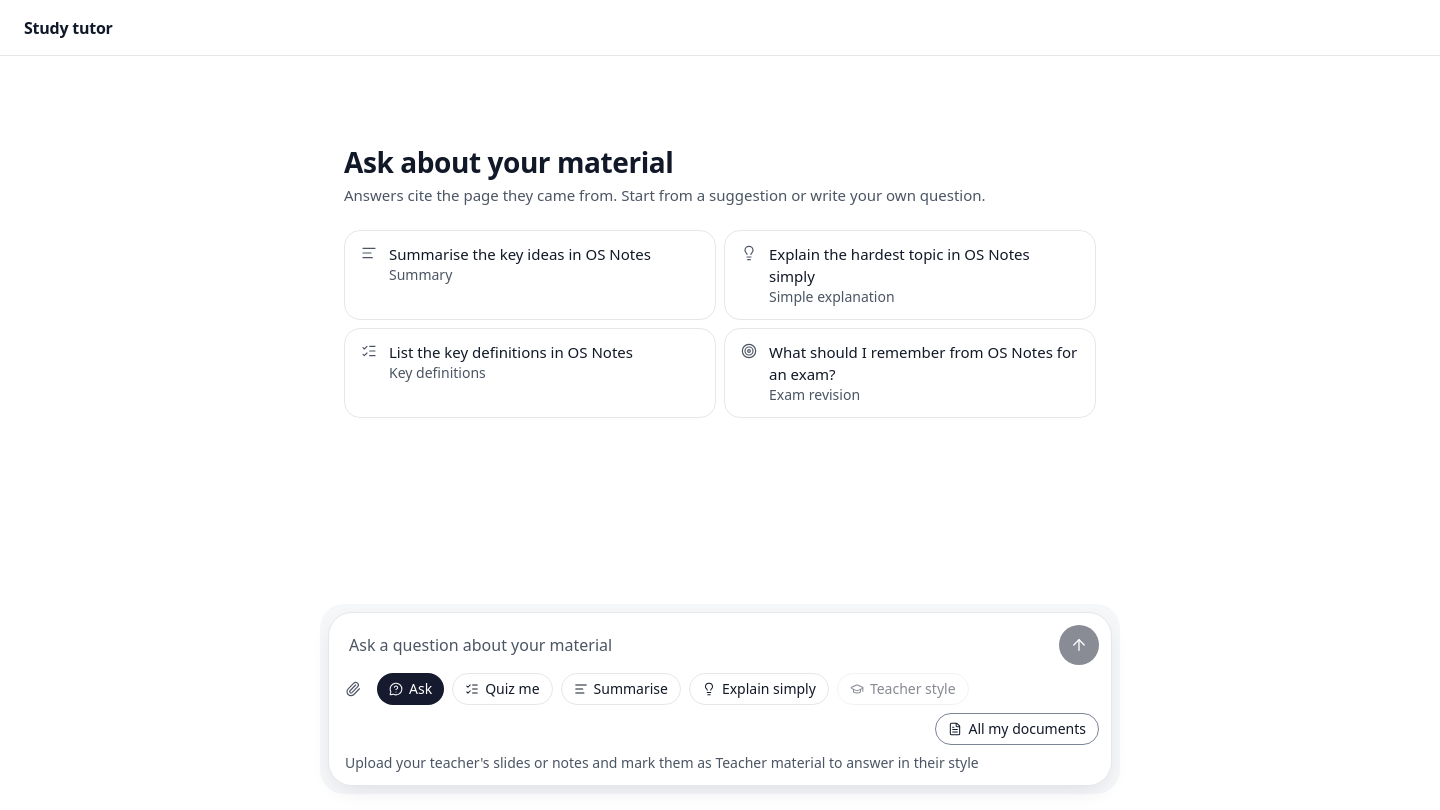
TutorView: empty states › fills the composer from a suggestion without sending it
Step 1. Click the button "Summarise the key ideas in OS Notes" → x=520, y=254, box [344, 230, 716, 320]
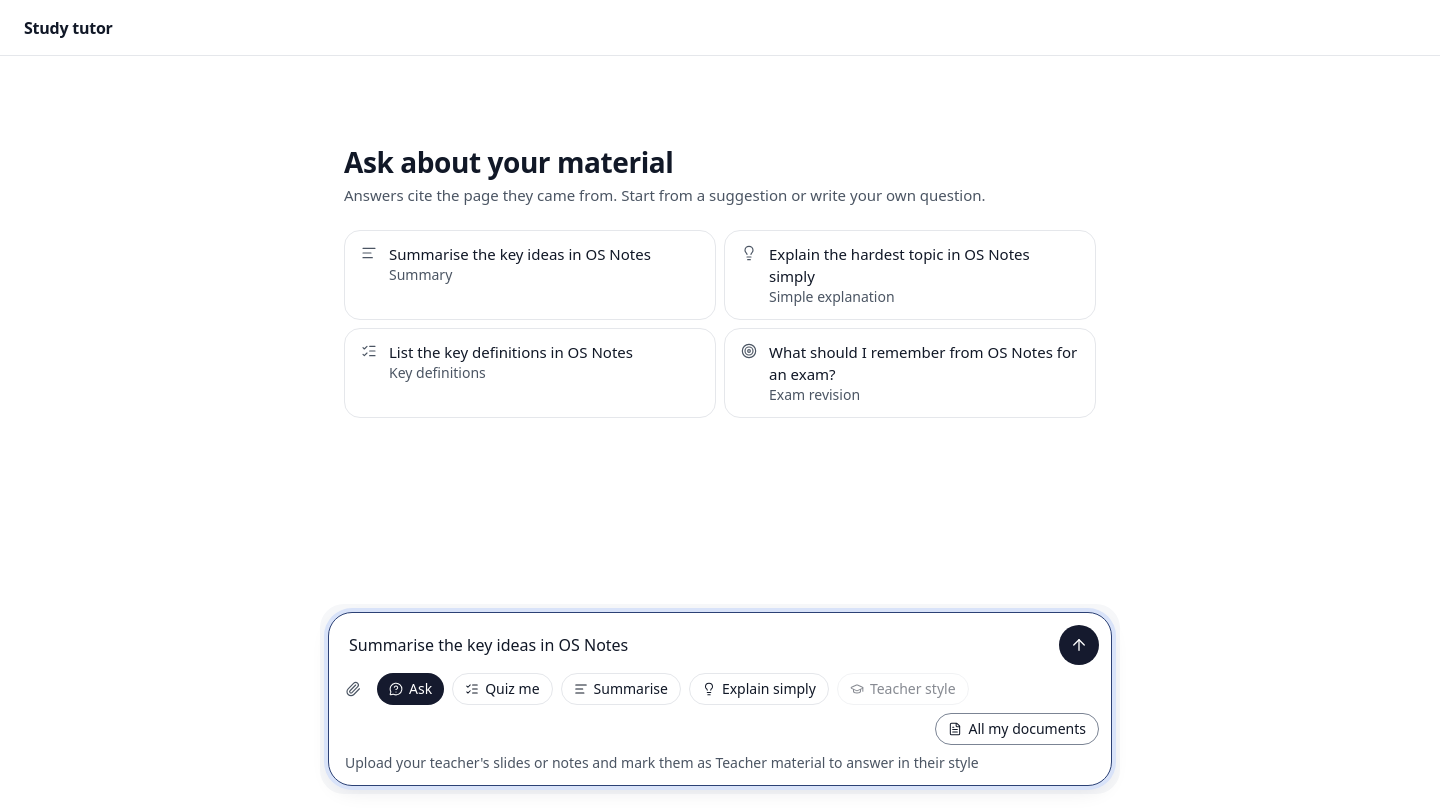
Check: the text box named "Your question" holds "Summarise the key ideas in OS Notes", box [341, 625, 1047, 665]
